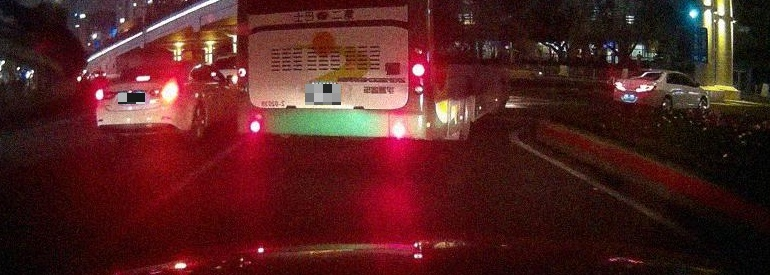L_light: (94, 86, 104, 104), (613, 81, 627, 92)
R_light: (160, 77, 180, 106), (635, 85, 654, 92)
T_light: (134, 74, 152, 82), (648, 71, 655, 73)
night-no: (612, 69, 665, 108)
night-right: (94, 63, 193, 145)
plate_1: (118, 93, 145, 104)
plate_2: (305, 84, 341, 105)
